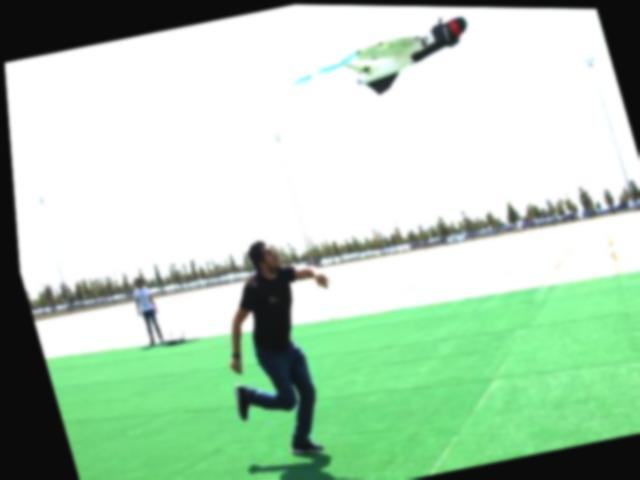uav: (328, 10, 484, 101)
